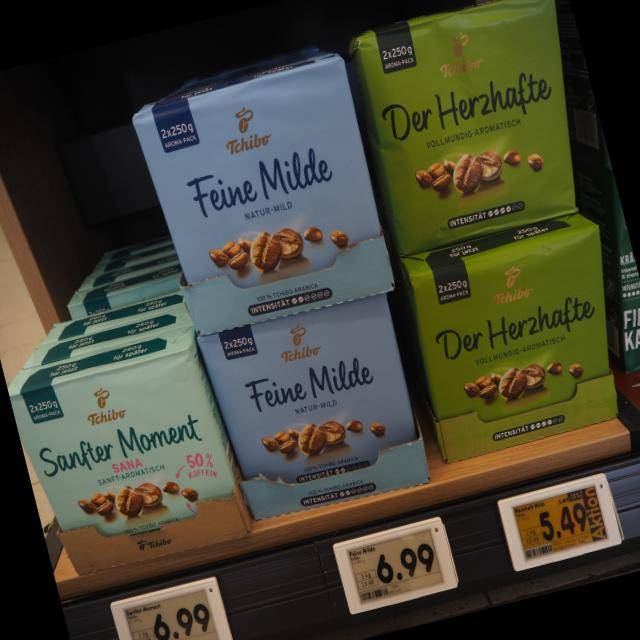Empty Shelf: (0, 121, 197, 390)
FM Gemahlen: (128, 54, 400, 335), (196, 292, 432, 522)
Herzhatfe Mundig: (346, 0, 581, 255), (410, 221, 621, 467)
SM Gemahlen: (10, 338, 251, 570)
